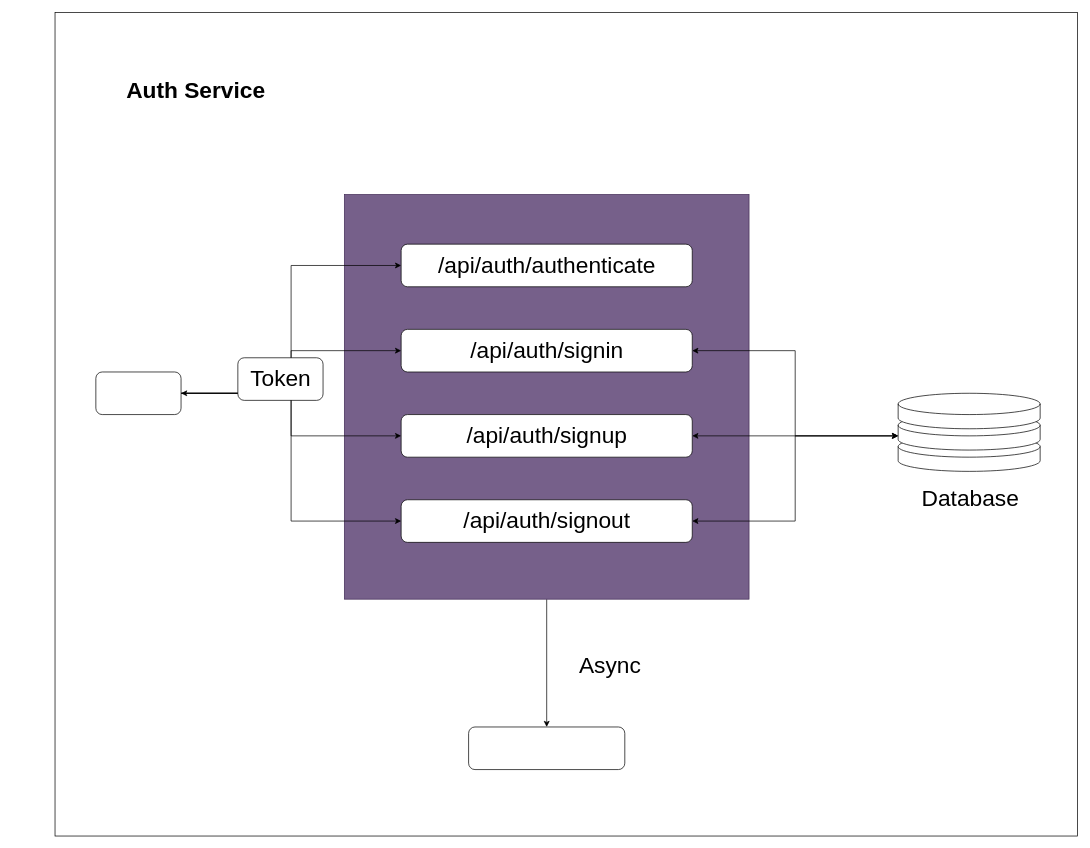
Some shapes in this 1090 by 848 pixel diagram are drawn without their labels. The centre of each missing label's shape, as x and y in pixels:
Client: point (138, 393)
KPI Service: point (546, 748)
